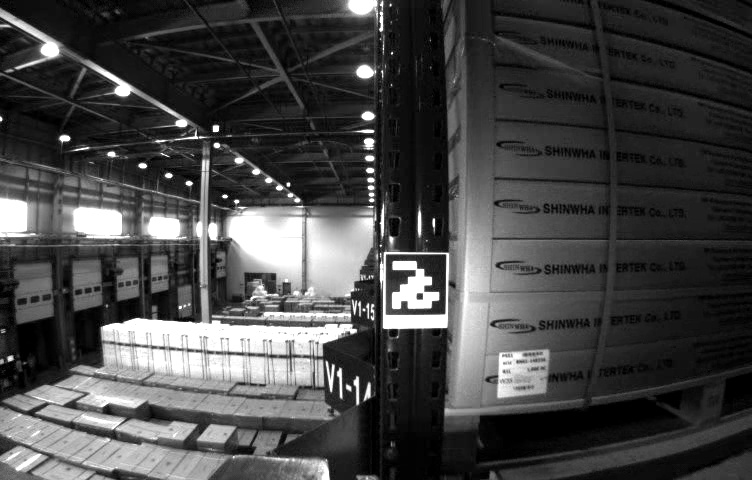True Barcode: (497, 350, 549, 395)
